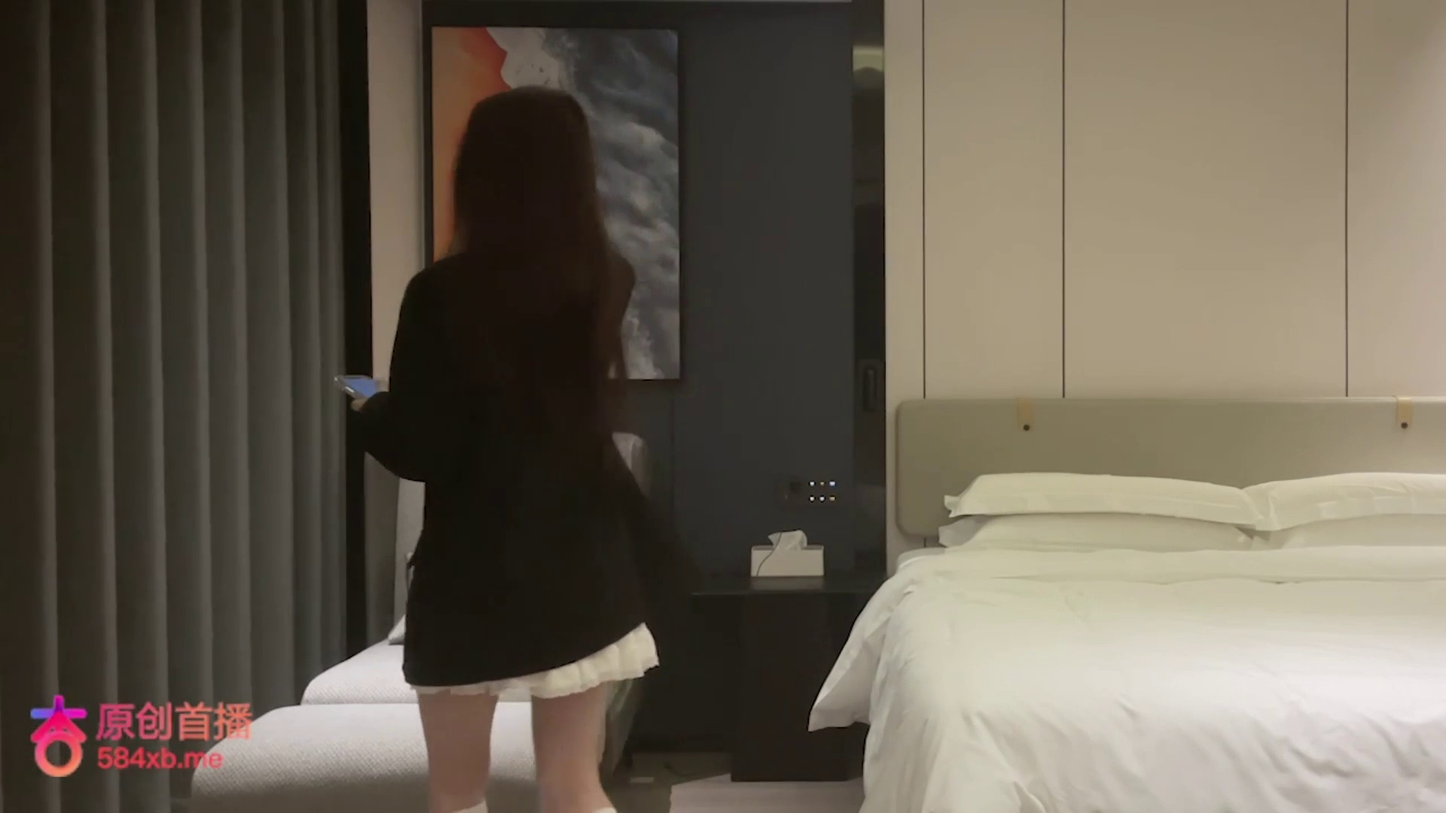stand: (343, 84, 666, 813)
